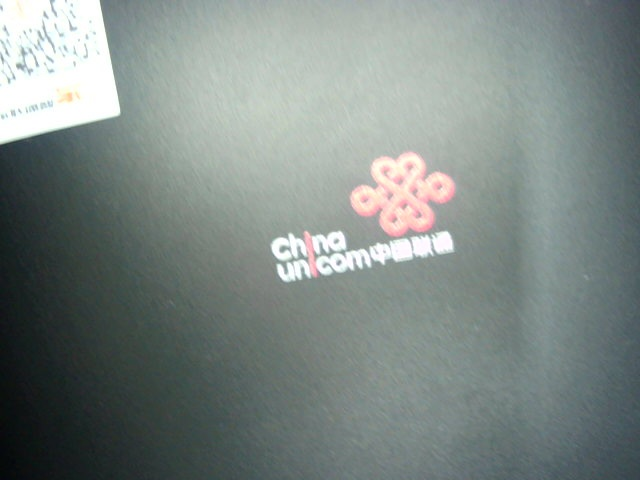AC_ChinaUnicom: (261, 150, 458, 284)
